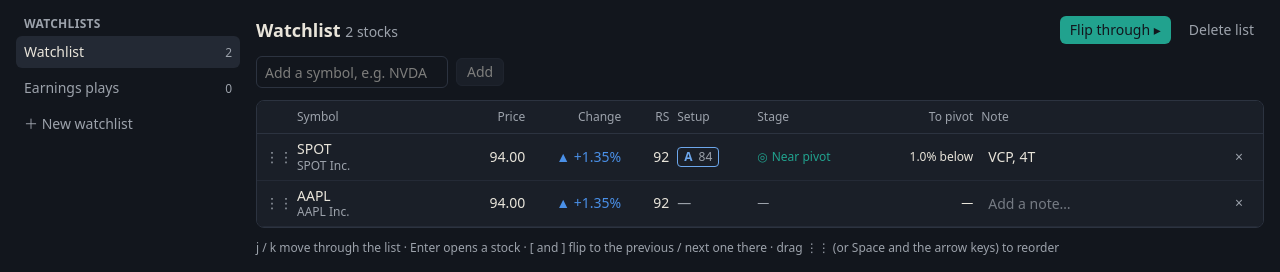
Scenario: Watchlists › saves a note when the field is left, and removes a stock
Type "  Wait for a base " into the field named "Note for AAPL".
click(1098, 203); type("  Wait for a base ")  # box top-left (981, 189), bottom-right (1215, 217)
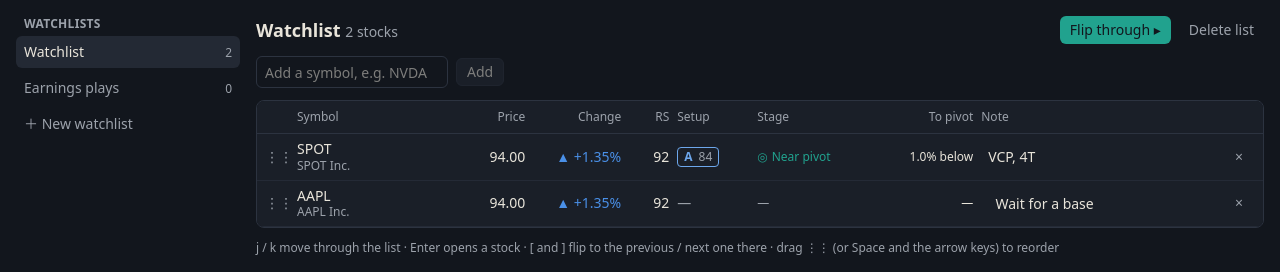
Leave the field named "Note for AAPL", box top-left (981, 189), bottom-right (1215, 217)
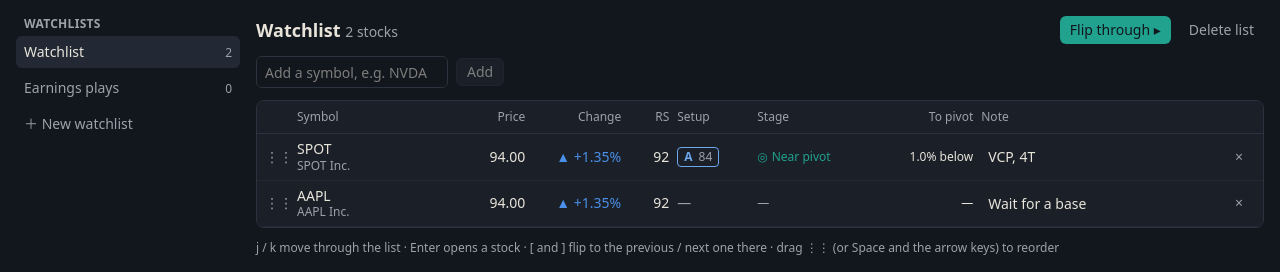
Now the field named "Note for AAPL" holds "Wait for a base", box top-left (981, 189), bottom-right (1215, 217)
Click the button named "Remove SPOT from the list".
click(1239, 157)  # box top-left (1223, 147), bottom-right (1255, 167)
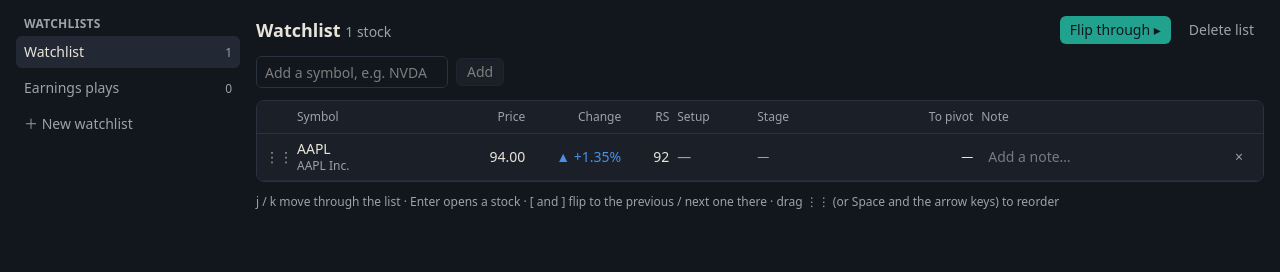
Now the number of links is 1, box top-left (297, 139), bottom-right (350, 174)
